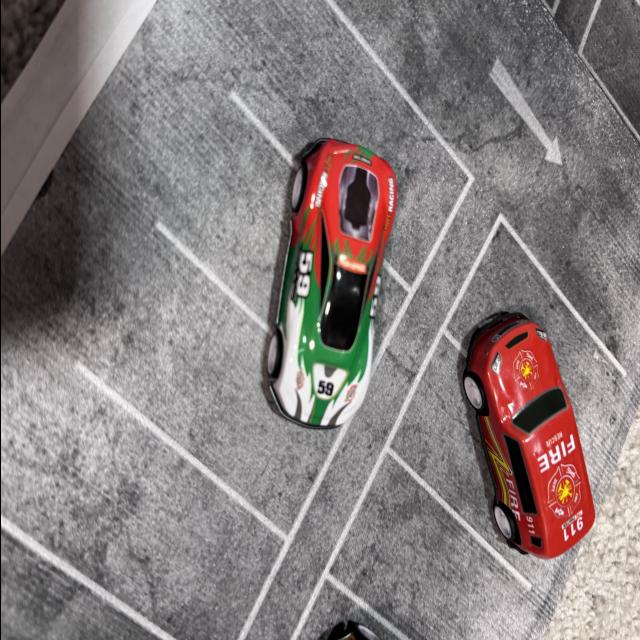car: (168, 124, 402, 505), (498, 287, 587, 553)
